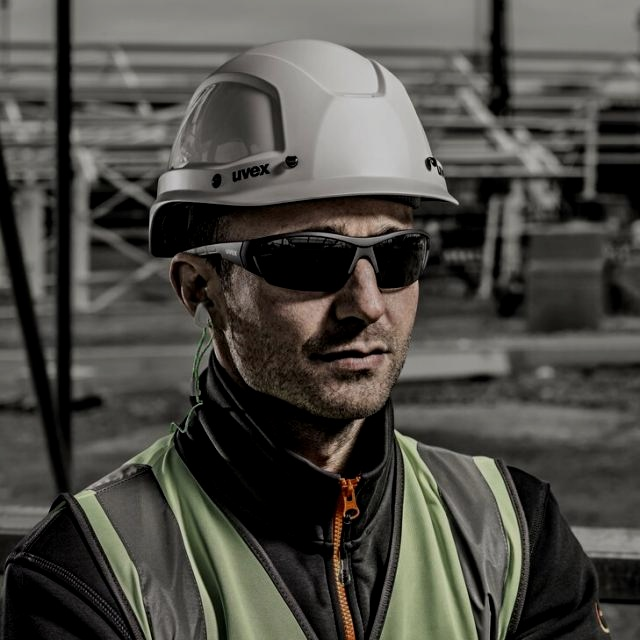goggles: (160, 230, 443, 344)
helmet: (150, 31, 485, 236)
vest: (48, 399, 577, 640)
